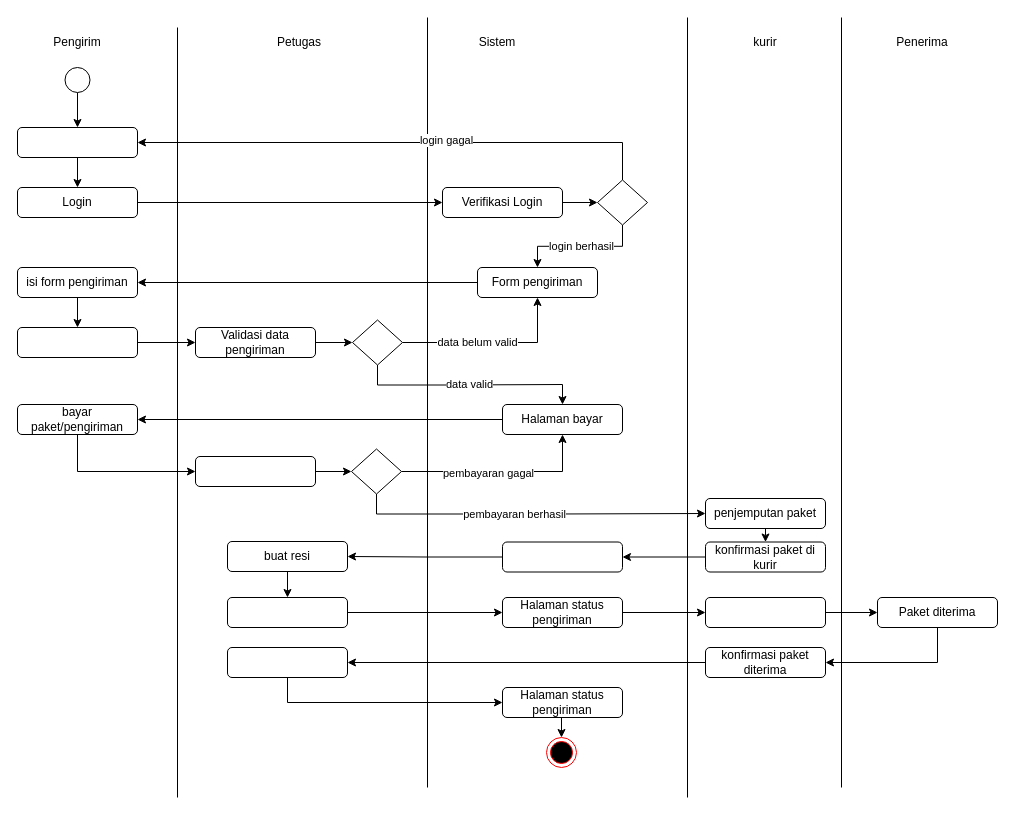
This 1015x816 diagram has some shape labels left out. The shapes that lost their labels are listed below. From the top down, each one's centre as x and y in pixels, then its label:
At point (77, 142): "Halaman Login".
At point (77, 342): "buat pengiriman".
At point (255, 471): "Validasi bayar".
At point (562, 556): "Halaman resi".
At point (287, 612): "atur ekspedisi".
At point (765, 612): "kirim ke penerima".
At point (287, 662): "update status paket".
